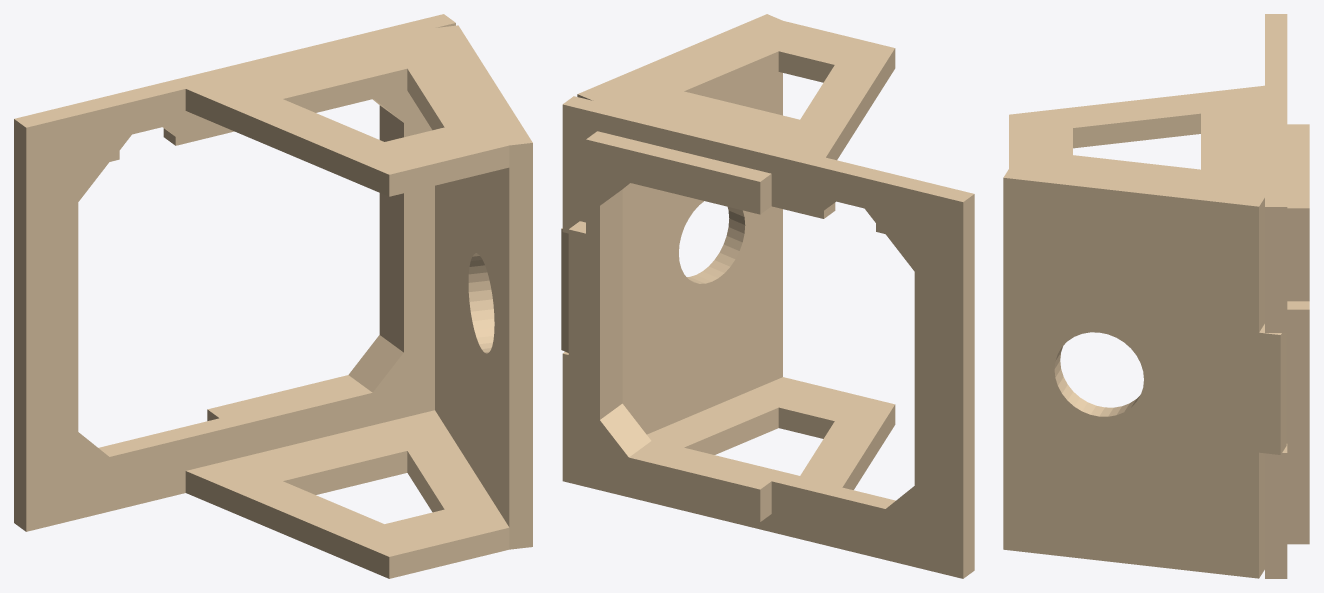
The picture shows the model from 3 angles, left to right: view 1: azimuth 30°, elevation 25°; view 2: azimuth 150°, elevation 25°; view 3: azimuth 270°, elevation 25°; orthographic projection. The views are drawn at different scales.
Visible parts, largest first — view 1: pi_camera_stand_c1_base_2_p0_base_2_part, pi_camera_stand_c4_camera_panel_p0_camera_panel_part, pi_camera_stand_c2_front_bracket_p0_bracket_part, pi_camera_stand_c3_back_bracket_p0_bracket_part, pi_camera_stand_c0_base_1_p0_base_1_part; view 2: pi_camera_stand_c1_base_2_p0_base_2_part, pi_camera_stand_c4_camera_panel_p0_camera_panel_part, pi_camera_stand_c0_base_1_p0_base_1_part, pi_camera_stand_c2_front_bracket_p0_bracket_part, pi_camera_stand_c3_back_bracket_p0_bracket_part; view 3: pi_camera_stand_c4_camera_panel_p0_camera_panel_part, pi_camera_stand_c2_front_bracket_p0_bracket_part, pi_camera_stand_c0_base_1_p0_base_1_part, pi_camera_stand_c1_base_2_p0_base_2_part, pi_camera_stand_c3_back_bracket_p0_bracket_part.
Part boxes in pixels (bbox=[...]): pi_camera_stand_c1_base_2_p0_base_2_part: bbox=[14, 14, 455, 531]; pi_camera_stand_c4_camera_panel_p0_camera_panel_part: bbox=[435, 25, 532, 549]; pi_camera_stand_c2_front_bracket_p0_bracket_part: bbox=[185, 28, 513, 196]; pi_camera_stand_c3_back_bracket_p0_bracket_part: bbox=[185, 410, 509, 578]; pi_camera_stand_c0_base_1_p0_base_1_part: bbox=[207, 99, 391, 420]; pi_camera_stand_c1_base_2_p0_base_2_part: bbox=[562, 96, 974, 578]; pi_camera_stand_c4_camera_panel_p0_camera_panel_part: bbox=[561, 14, 782, 434]; pi_camera_stand_c0_base_1_p0_base_1_part: bbox=[568, 131, 771, 521]; pi_camera_stand_c2_front_bracket_p0_bracket_part: bbox=[594, 21, 895, 169]; pi_camera_stand_c3_back_bracket_p0_bracket_part: bbox=[640, 377, 895, 528]; pi_camera_stand_c4_camera_panel_p0_camera_panel_part: bbox=[1003, 168, 1286, 578]; pi_camera_stand_c2_front_bracket_p0_bracket_part: bbox=[1009, 85, 1287, 219]; pi_camera_stand_c0_base_1_p0_base_1_part: bbox=[1287, 124, 1309, 544]; pi_camera_stand_c1_base_2_p0_base_2_part: bbox=[1265, 14, 1287, 578]; pi_camera_stand_c3_back_bracket_p0_bracket_part: bbox=[1067, 536, 1195, 571].
Bounding box in the file's own units: 69.76 × 62 × 46.27.
